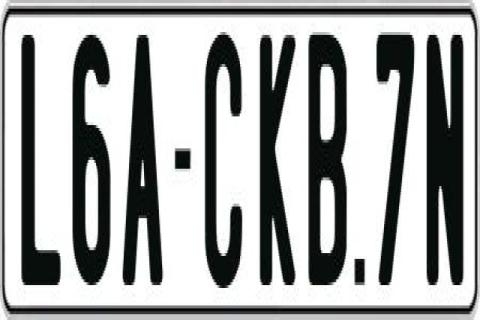0: (72, 26, 116, 288), (374, 35, 412, 288)
A: (123, 32, 166, 288)
B: (307, 29, 351, 282)
C: (205, 29, 243, 282)
K: (260, 32, 296, 294)
L: (22, 32, 60, 285)
N: (424, 27, 462, 280)
